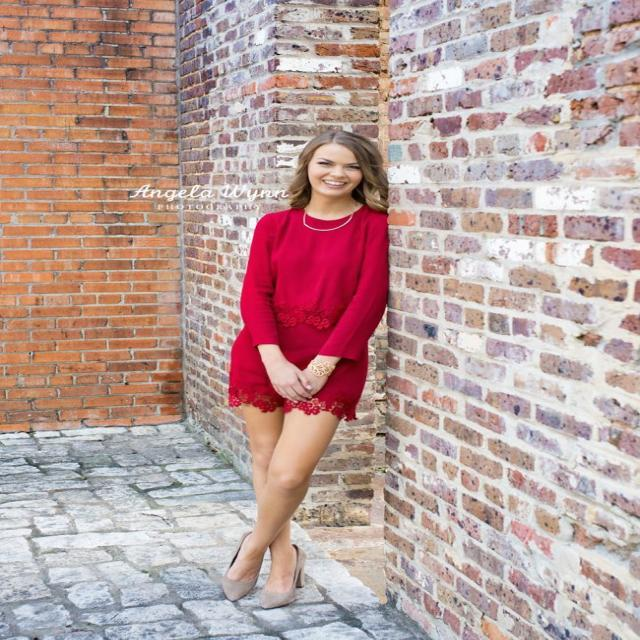adult: (227, 124, 392, 612)
